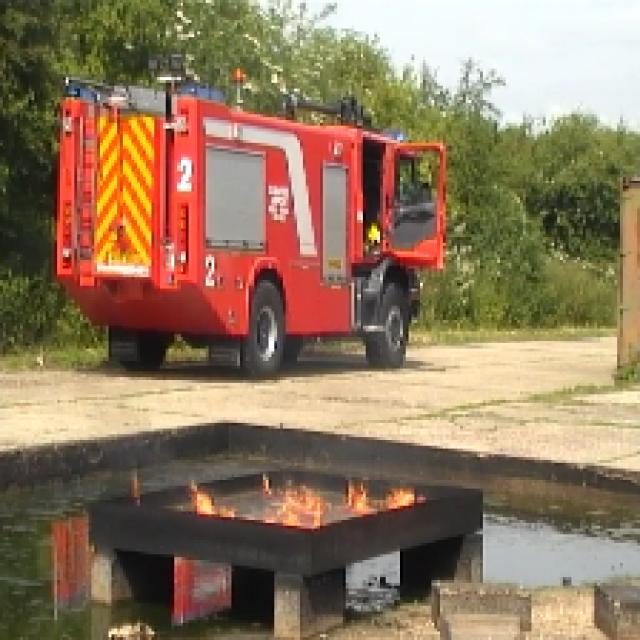Fire: (200, 462, 408, 540)
